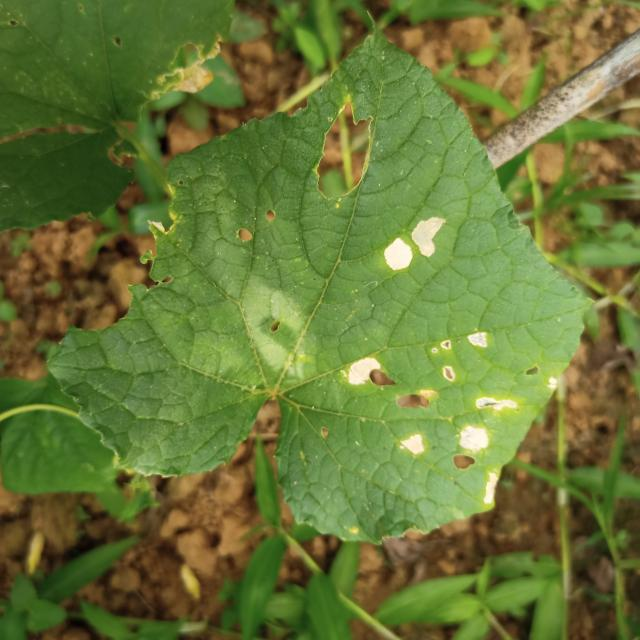disease_cucumber: (349, 332, 517, 502), (386, 217, 445, 270)
